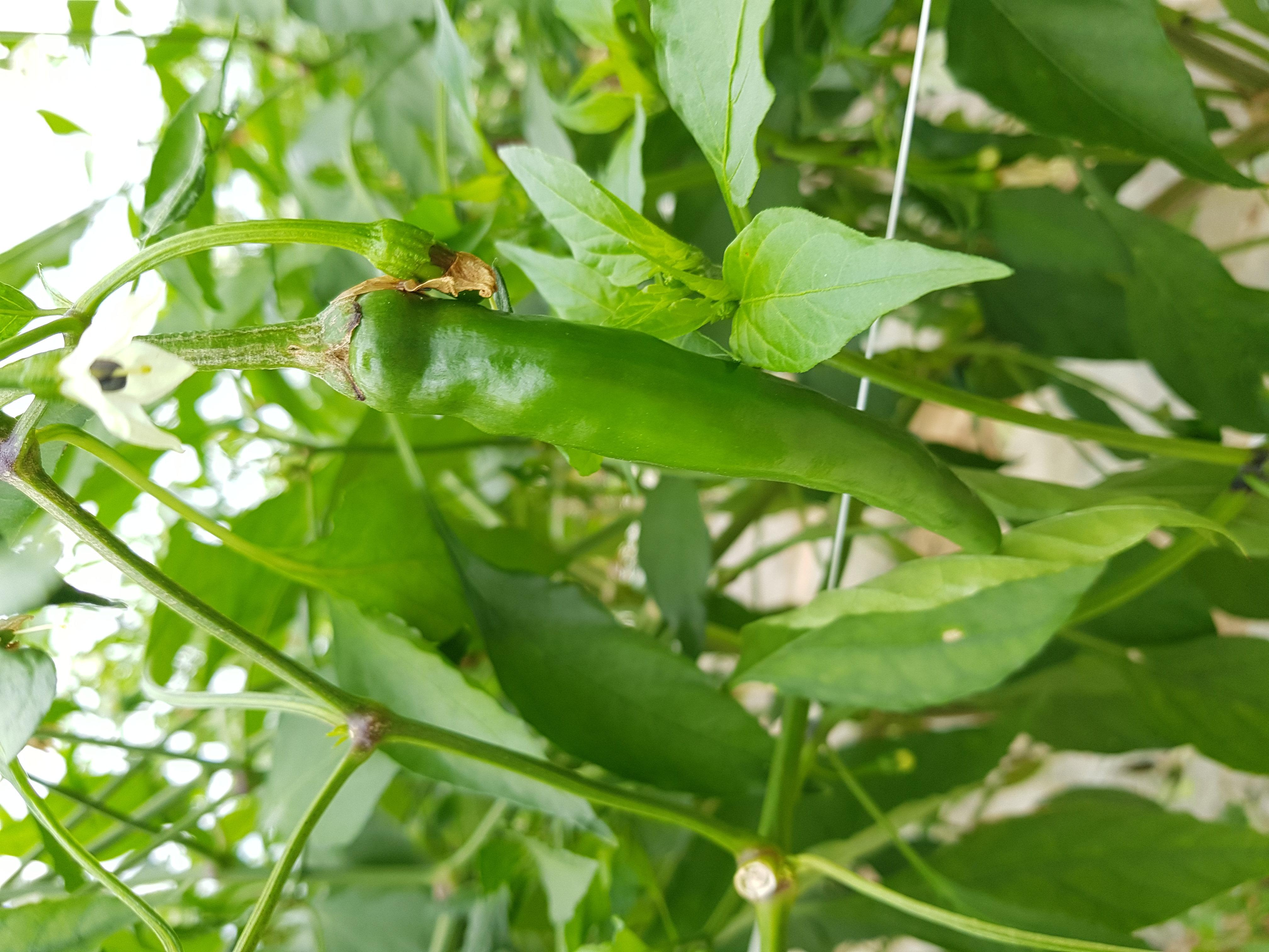Buah Cabai Sehat: (323, 284, 1009, 570)
Daun Cabai Sehat: (716, 208, 1024, 382)
